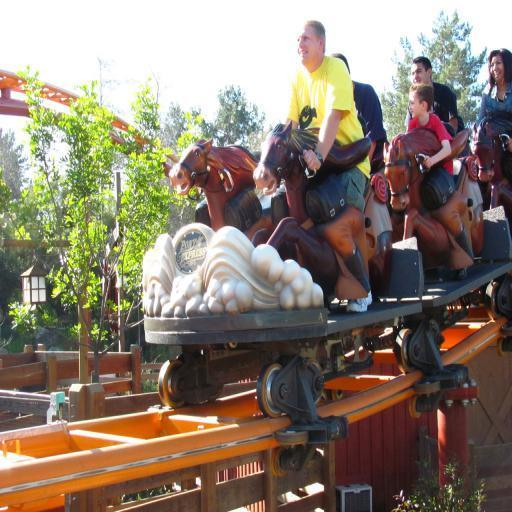horse: (252, 118, 392, 301), (384, 125, 479, 271), (167, 136, 278, 245), (472, 118, 512, 228)
